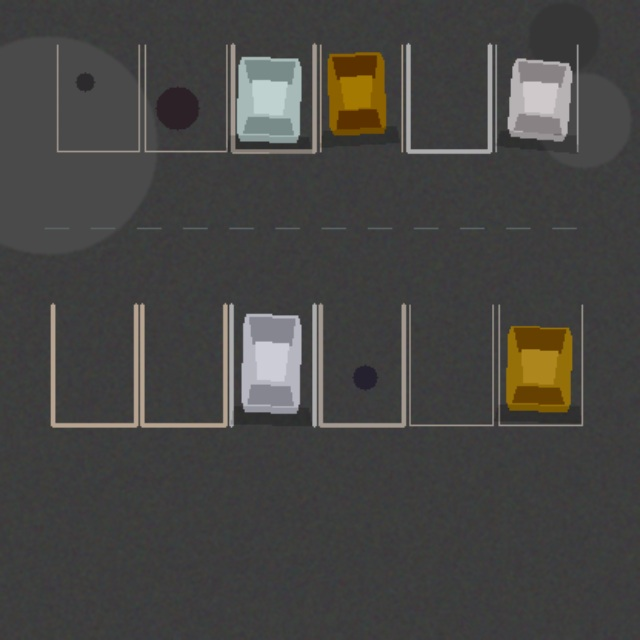space-empty: (52, 305, 135, 425), (142, 305, 225, 425), (320, 305, 403, 425), (409, 305, 492, 425), (57, 45, 138, 151), (145, 45, 226, 151), (408, 45, 489, 151)
space-occupied: (498, 305, 582, 425), (231, 305, 314, 425), (232, 45, 314, 151), (320, 45, 402, 151), (495, 45, 577, 151)
